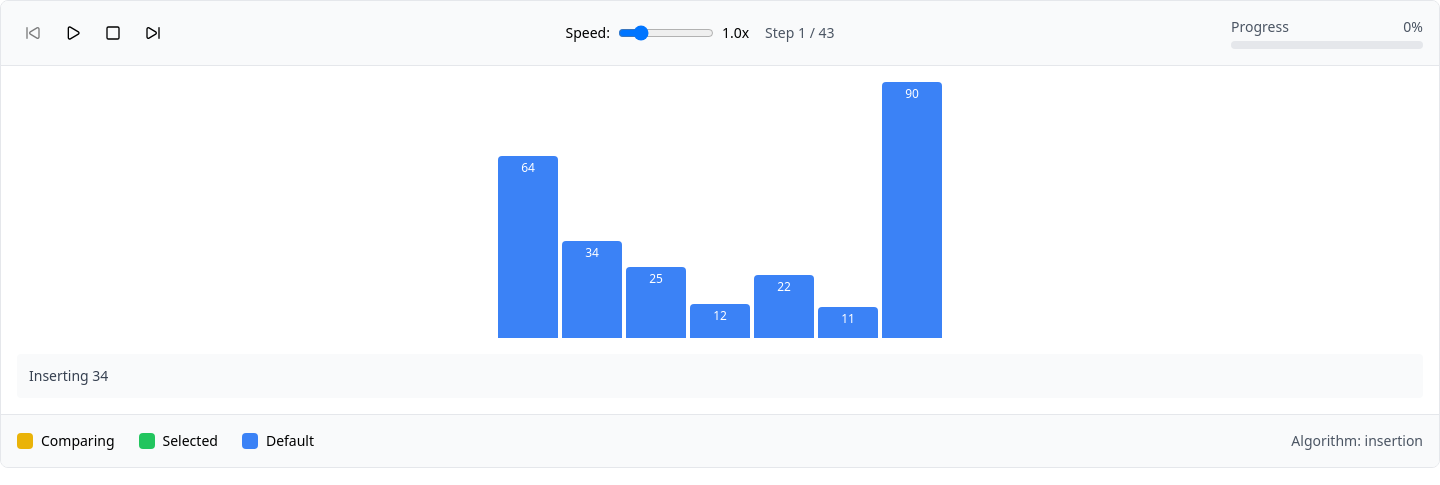
Test: SortingVisualization › handles step controls
Click the button named "step forward" at [153, 33], box [137,17,169,49]
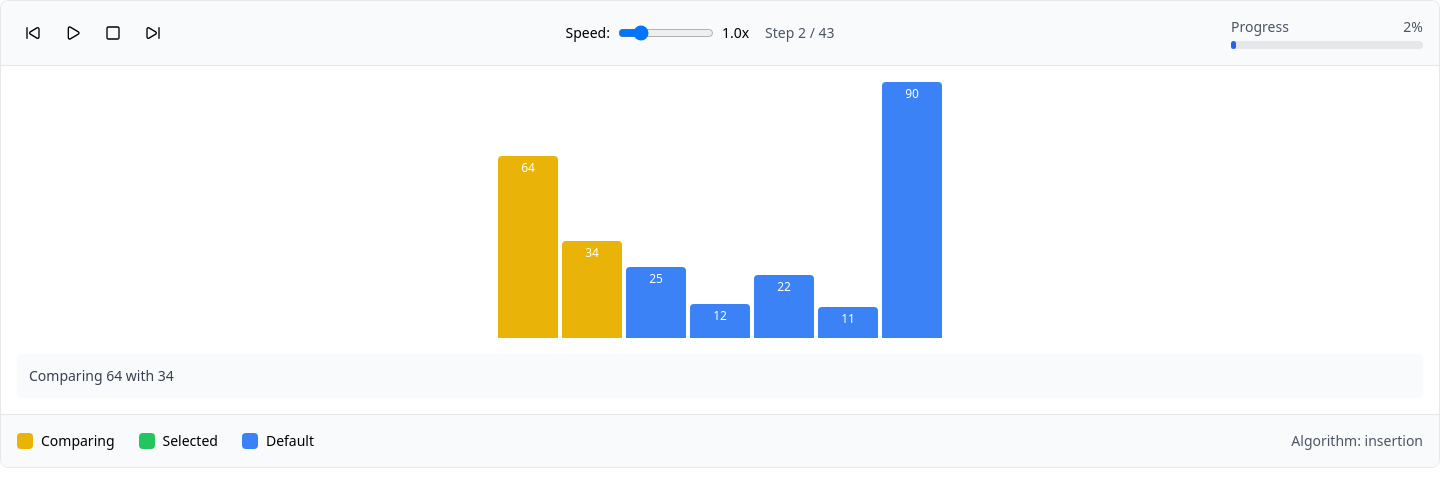
Expected: the text "Step 2 / 43" is shown, [765,23,834,43]
